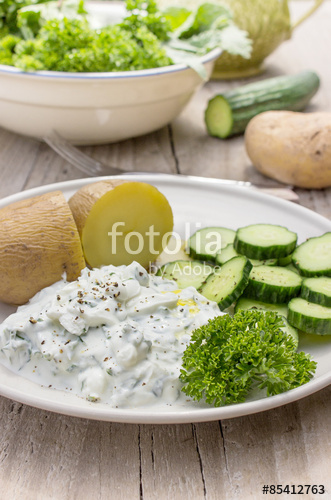boiled potatoes: (1, 183, 176, 292)
chopped lettuce: (2, 1, 254, 83)
